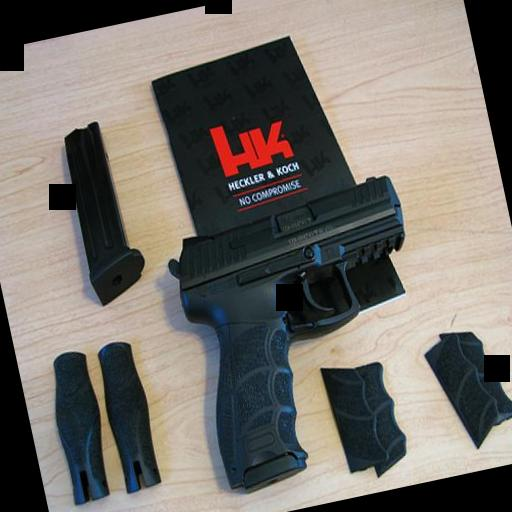Handgun: (150, 165, 450, 491)
